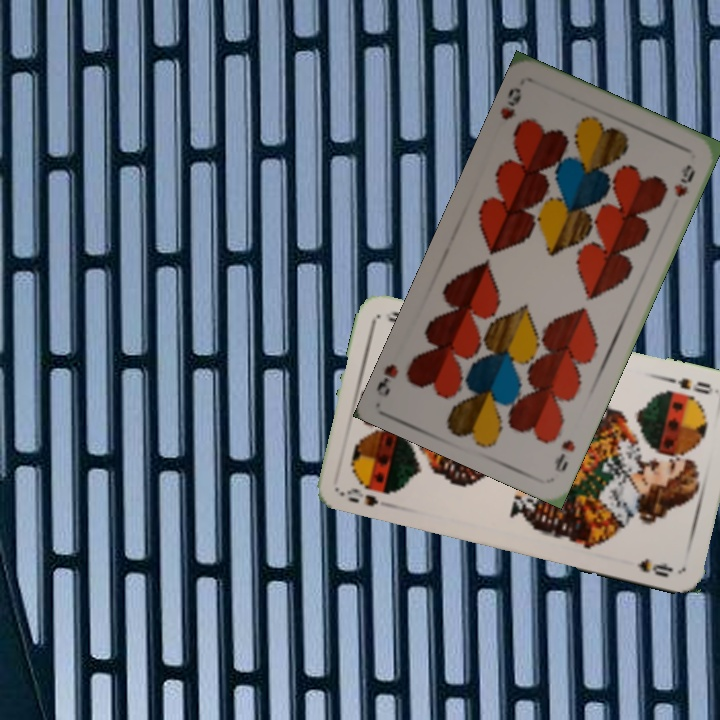H9: (496, 83, 524, 123), (551, 435, 578, 476)
SO: (663, 373, 716, 397), (337, 484, 382, 509)
